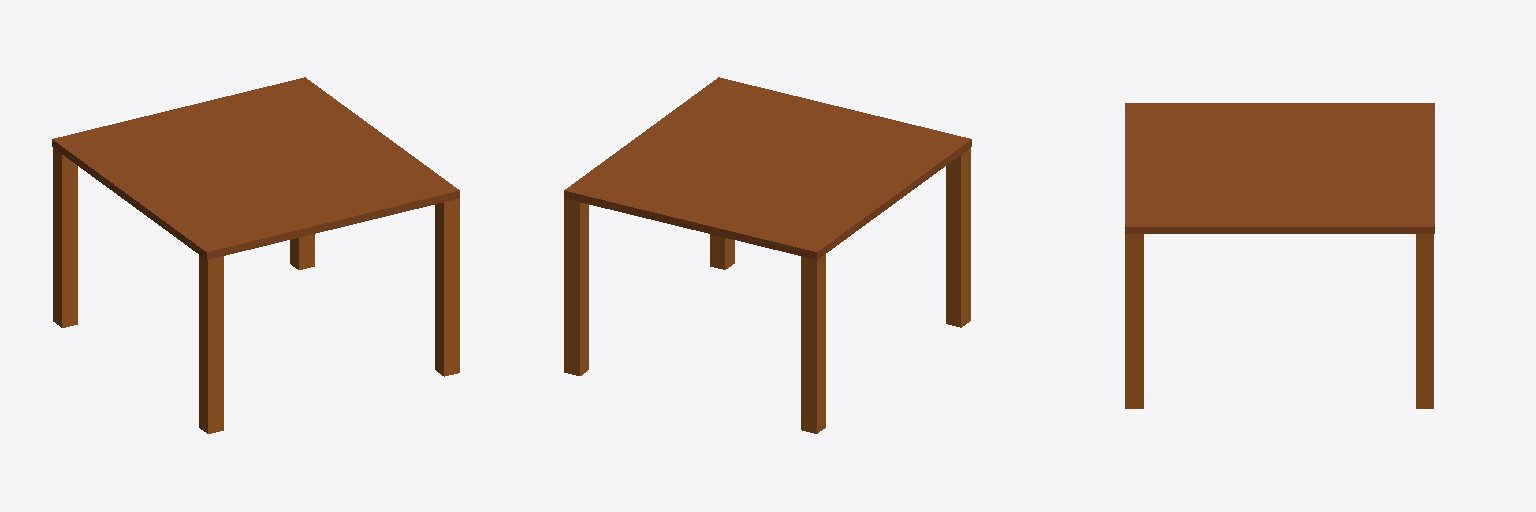
File: Table.obj
3 renders of one model, left to right at view 1: azimuth 30°, elevation 25°; view 2: azimuth 150°, elevation 25°; view 3: azimuth 270°, elevation 25°, orthographic.
Parts seen in each view (by area): view 1: Mesh5 Model, Mesh4 Group_1_4 Model, Mesh1 Group_1_1 Model, Mesh3 Group_1_3 Model, Mesh2 Group_1_2 Model; view 2: Mesh5 Model, Mesh3 Group_1_3 Model, Mesh2 Group_1_2 Model, Mesh4 Group_1_4 Model, Mesh1 Group_1_1 Model; view 3: Mesh5 Model, Mesh1 Group_1_1 Model, Mesh2 Group_1_2 Model.
Part boxes in pixels (left/top/right/bottom): Mesh5 Model: left=52, top=77, right=459, bottom=259; Mesh4 Group_1_4 Model: left=199, top=255, right=223, bottom=433; Mesh1 Group_1_1 Model: left=435, top=199, right=459, bottom=376; Mesh3 Group_1_3 Model: left=53, top=148, right=77, bottom=327; Mesh2 Group_1_2 Model: left=290, top=234, right=314, bottom=269; Mesh5 Model: left=564, top=77, right=971, bottom=259; Mesh3 Group_1_3 Model: left=801, top=254, right=825, bottom=433; Mesh2 Group_1_2 Model: left=564, top=199, right=588, bottom=375; Mesh4 Group_1_4 Model: left=946, top=148, right=970, bottom=327; Mesh1 Group_1_1 Model: left=710, top=234, right=734, bottom=269; Mesh5 Model: left=1125, top=103, right=1434, bottom=233; Mesh1 Group_1_1 Model: left=1125, top=234, right=1143, bottom=408; Mesh2 Group_1_2 Model: left=1416, top=234, right=1433, bottom=408.
Size of the model in its own units: 286 by 197 by 303.